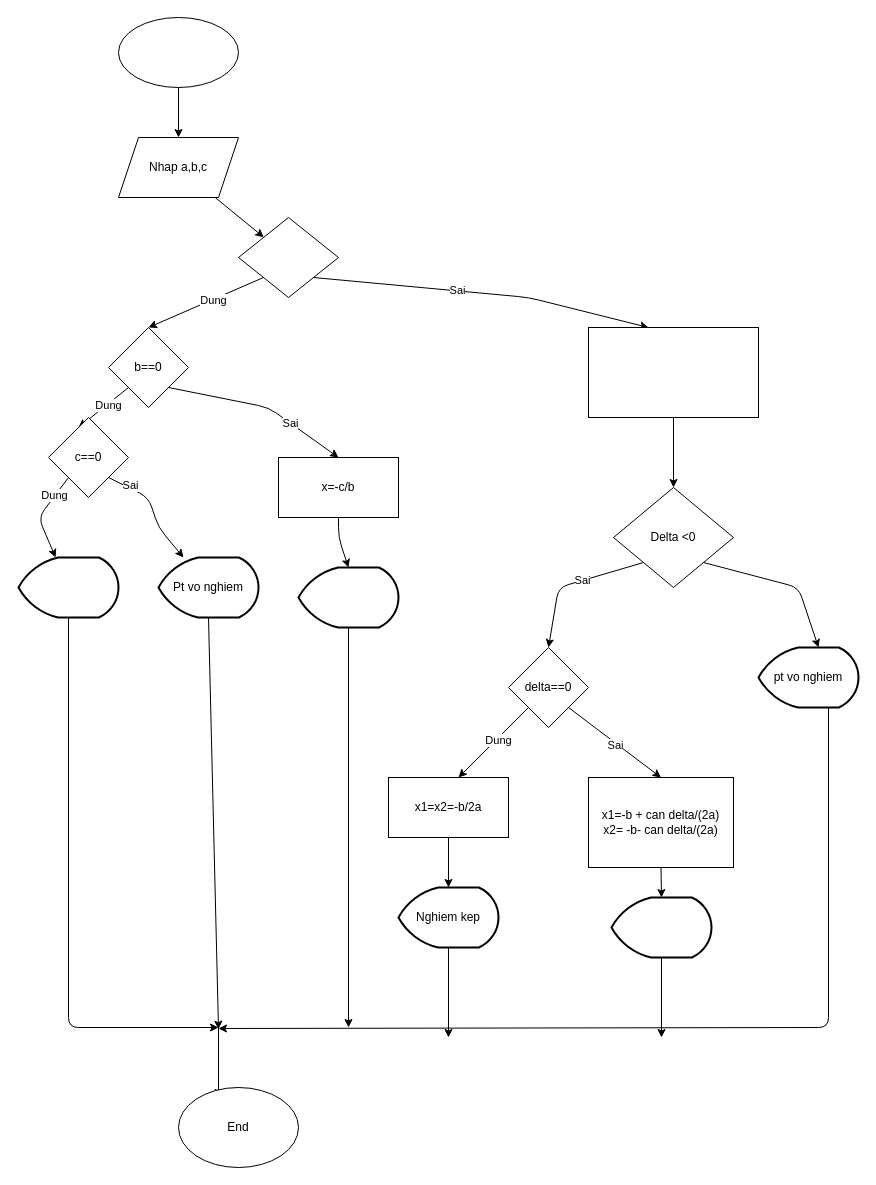
This 876x1185 diagram has some shape labels left out. Each missing label, with the centre of its shape:
"a==0" belongs at (x=288, y=257).
"delta = b^2-4ac" belongs at (x=673, y=372).
"Pt vo so nghiem" belongs at (x=68, y=587).
"Start" belongs at (x=178, y=52).
"Xuat x" belongs at (x=348, y=597).
"xuat x1, x2" belongs at (x=661, y=927).
